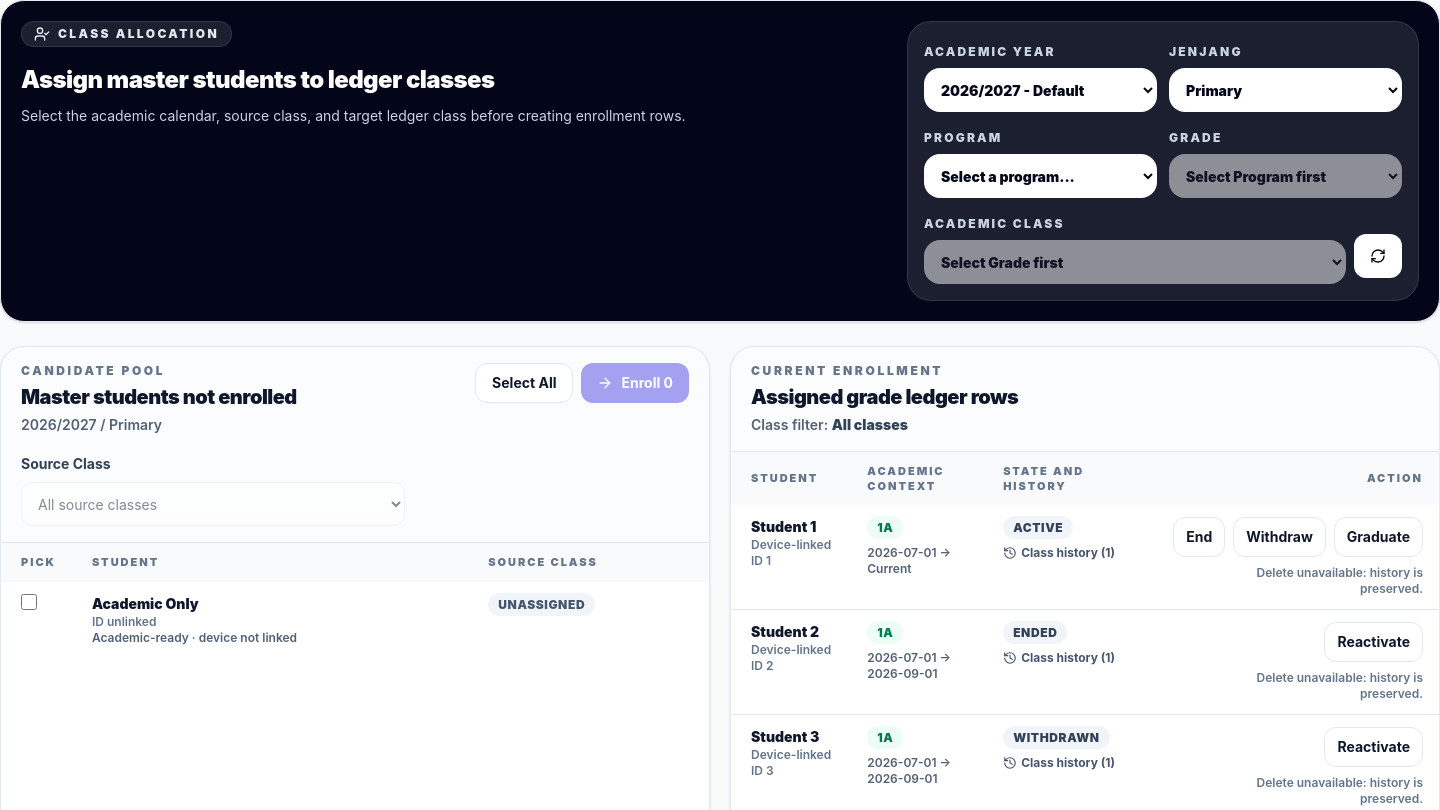
EnrollmentPanel ledger lifecycle › opens an accessible effective-dated confirmation without losing the selected row
Click the button "Withdraw".
click(1280, 537)  # box [1233,517,1326,557]
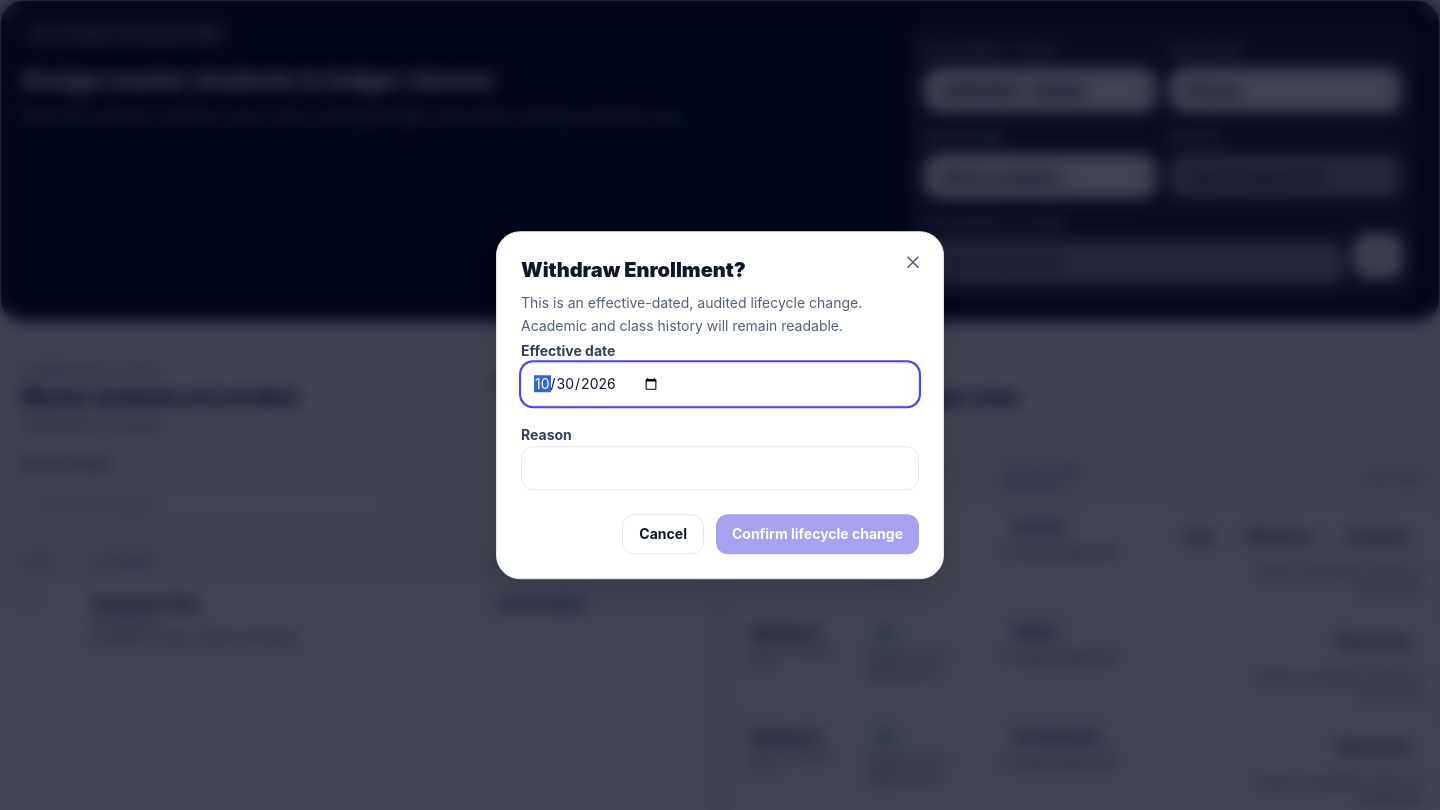
Now the dialog is shown, box [496,231,944,579]
Now the date field with id "enrollment-lifecycle-date" is shown, box [521,362,919,406]
Now the field with id "enrollment-lifecycle-reason" is shown, box [521,446,919,490]
